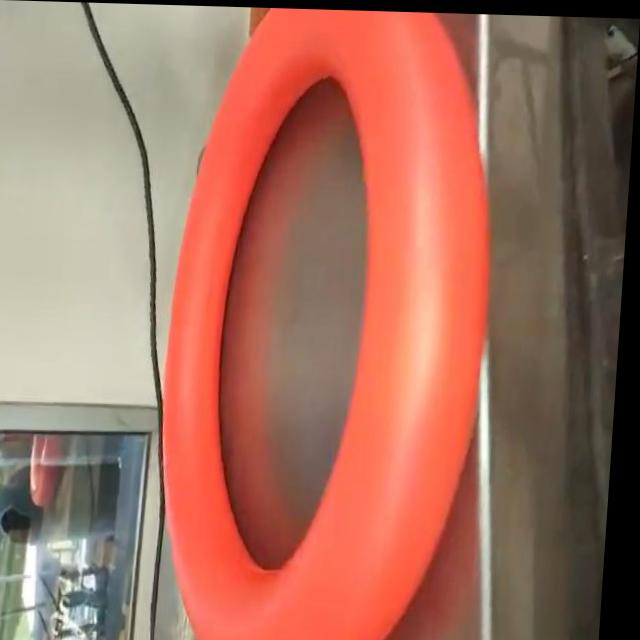note: (150, 5, 516, 640)
